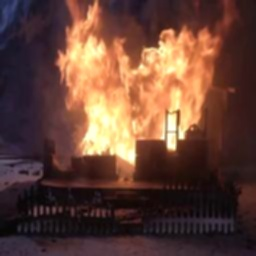fire: (55, 1, 225, 183)
